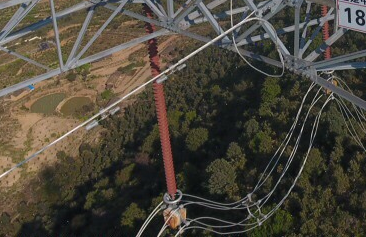damper: (84, 104, 120, 131), (152, 61, 187, 85)
